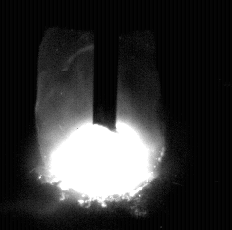arame: (93, 0, 118, 132)
poca: (38, 0, 165, 230)
